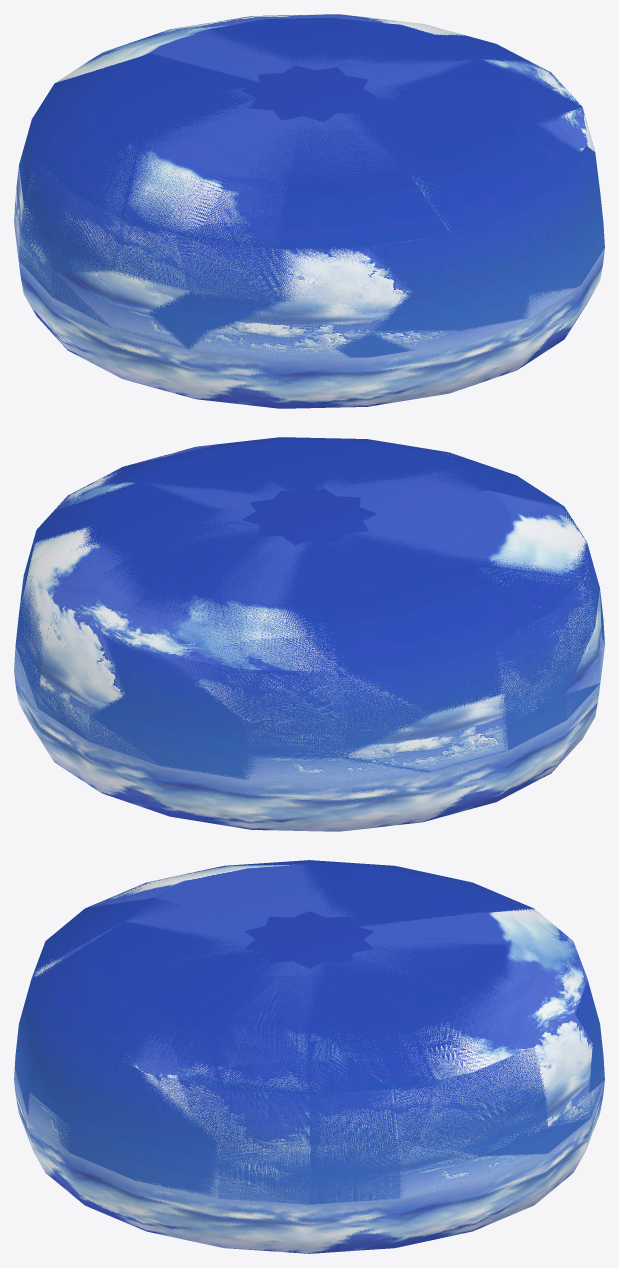
File: stage-east-sky.glb
3 views of the same model, one above another, from view 1: azimuth 30°, elevation 25°; view 2: azimuth 150°, elevation 25°; view 3: azimuth 270°, elevation 25° (orthographic).
Parts seen in each view (by area): view 1: sky; view 2: sky; view 3: sky.
Part boxes in pixels (x1,y1,x2,y2): sky: (14, 14, 604, 408); sky: (14, 437, 604, 831); sky: (14, 860, 604, 1253).
Size of the model in its own units: 3605 by 1627 by 3605.
Materials: 5 (5 with a texture image).
